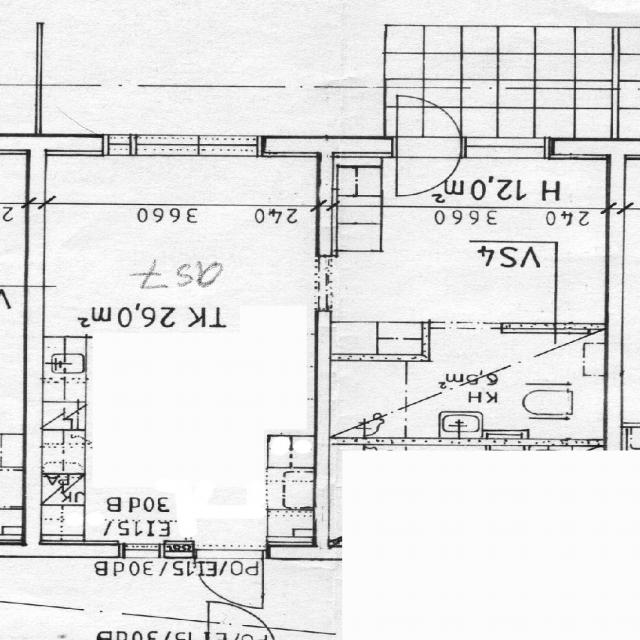door: (397, 134, 460, 202), (397, 88, 460, 155), (194, 550, 262, 608)
